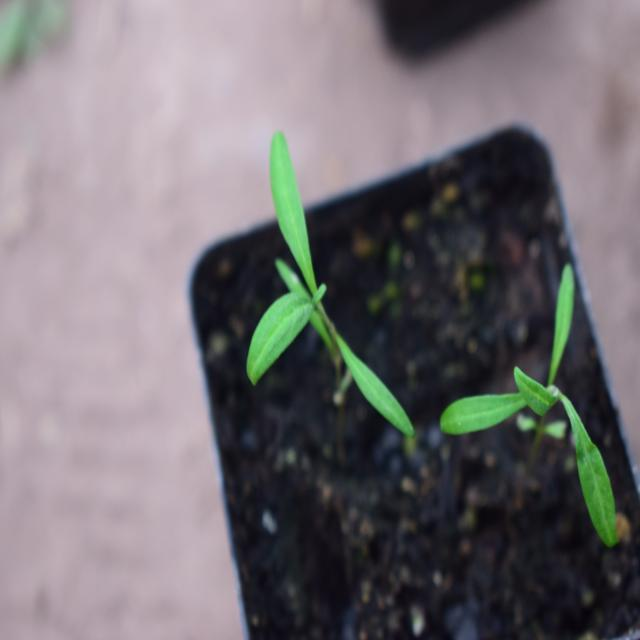white_smart_weed: (444, 250, 628, 558), (224, 124, 408, 422)
